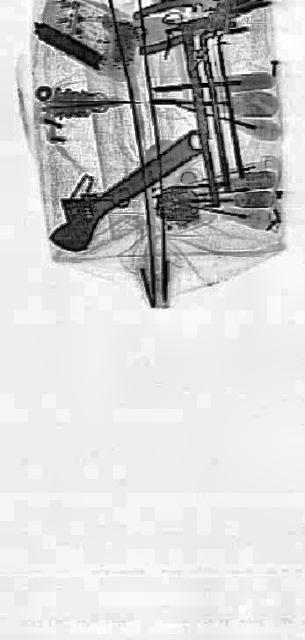Pliers: (132, 0, 268, 58)
Wrench: (43, 105, 207, 267)
